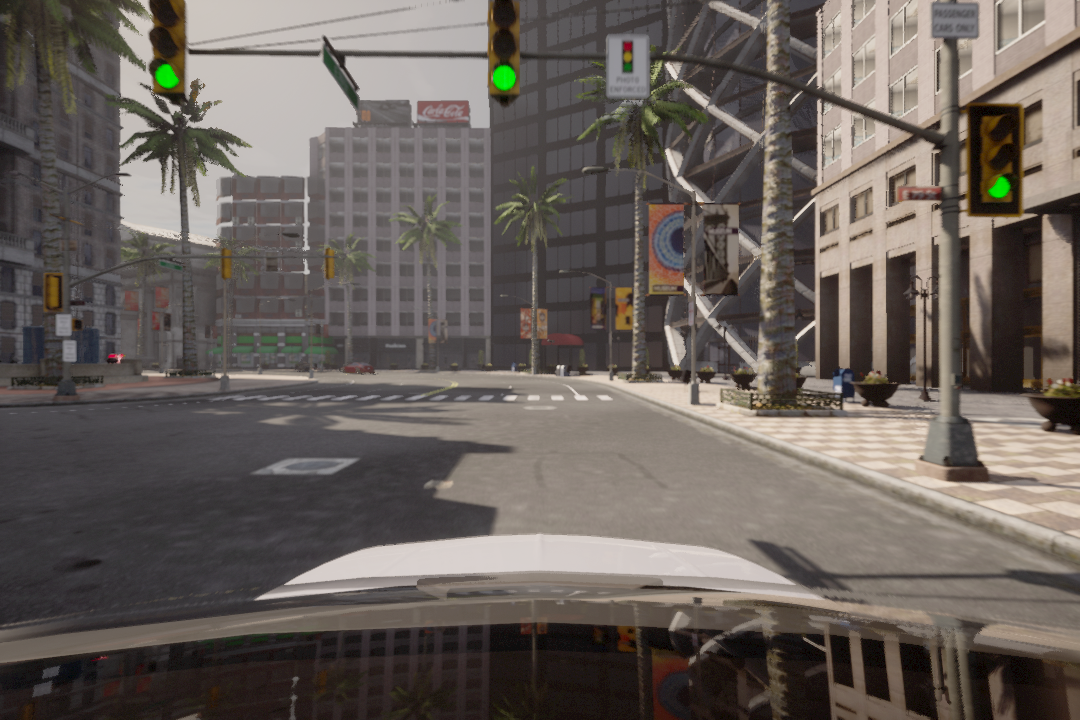TrafficLight: (968, 104, 1021, 218), (485, 1, 522, 97), (150, 1, 181, 97)
walkside: (205, 391, 622, 405)
